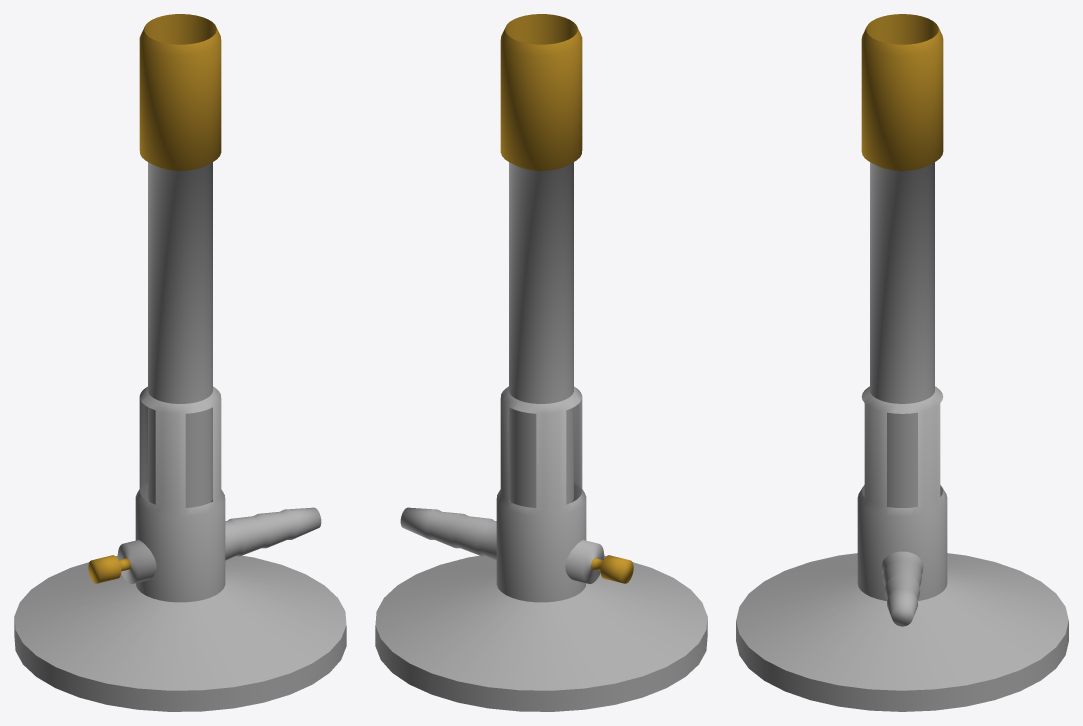
File: CLV01.fbx
3 renders of one model, left to right at view 1: azimuth 30°, elevation 25°; view 2: azimuth 150°, elevation 25°; view 3: azimuth 270°, elevation 25°, orthographic.
Parts seen in each view (by area): view 1: CLV01; view 2: CLV01; view 3: CLV01.
Boxes of the visible parts, box(x1,y1,x2,y2) form: CLV01: box(14, 14, 346, 711); CLV01: box(375, 14, 707, 711); CLV01: box(736, 14, 1068, 711).
Bounding box in the file's own units: 8 × 16.25 × 8.
